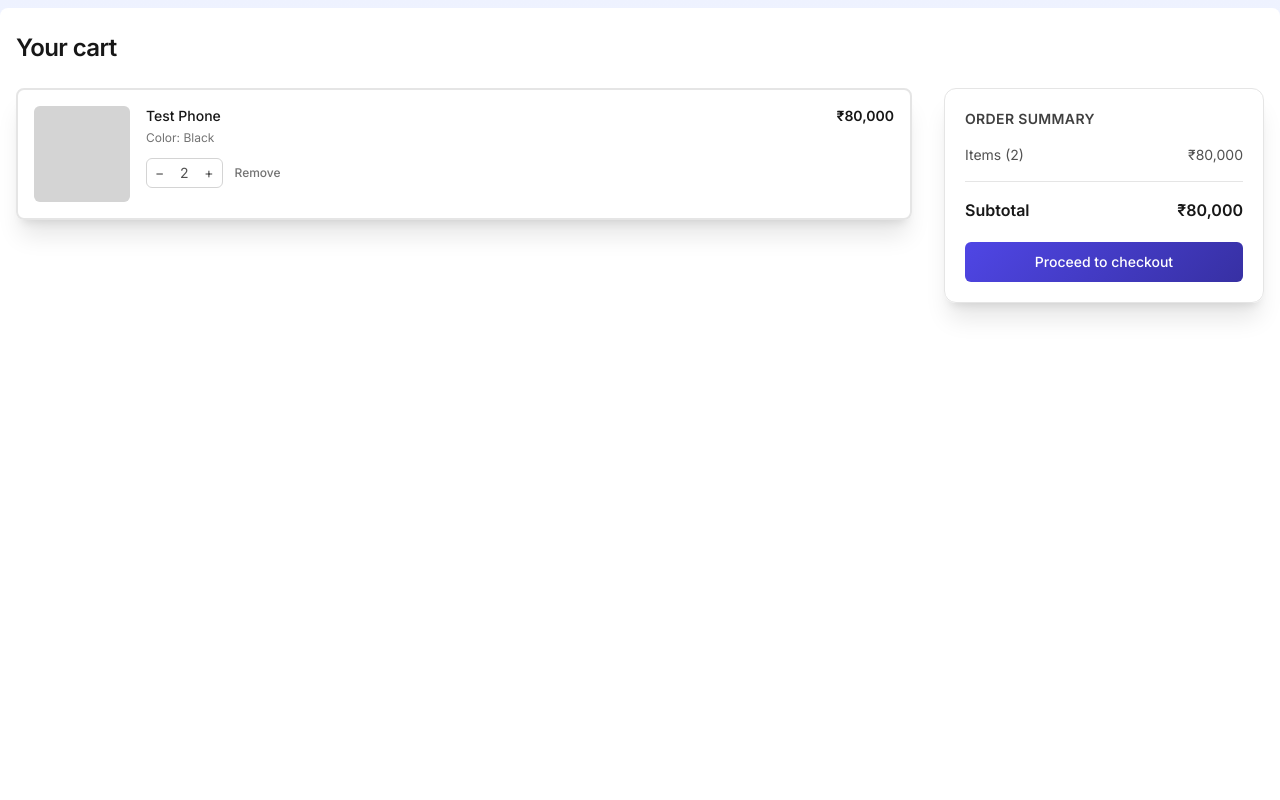
Test case: Cart page › removes a line
The width and height of the screenshot is (1280, 800).
Expected: the link "Test Phone" is shown, [146,107,221,124]
Click the button "Remove". click: (258, 173)
box: [234,165,281,181]
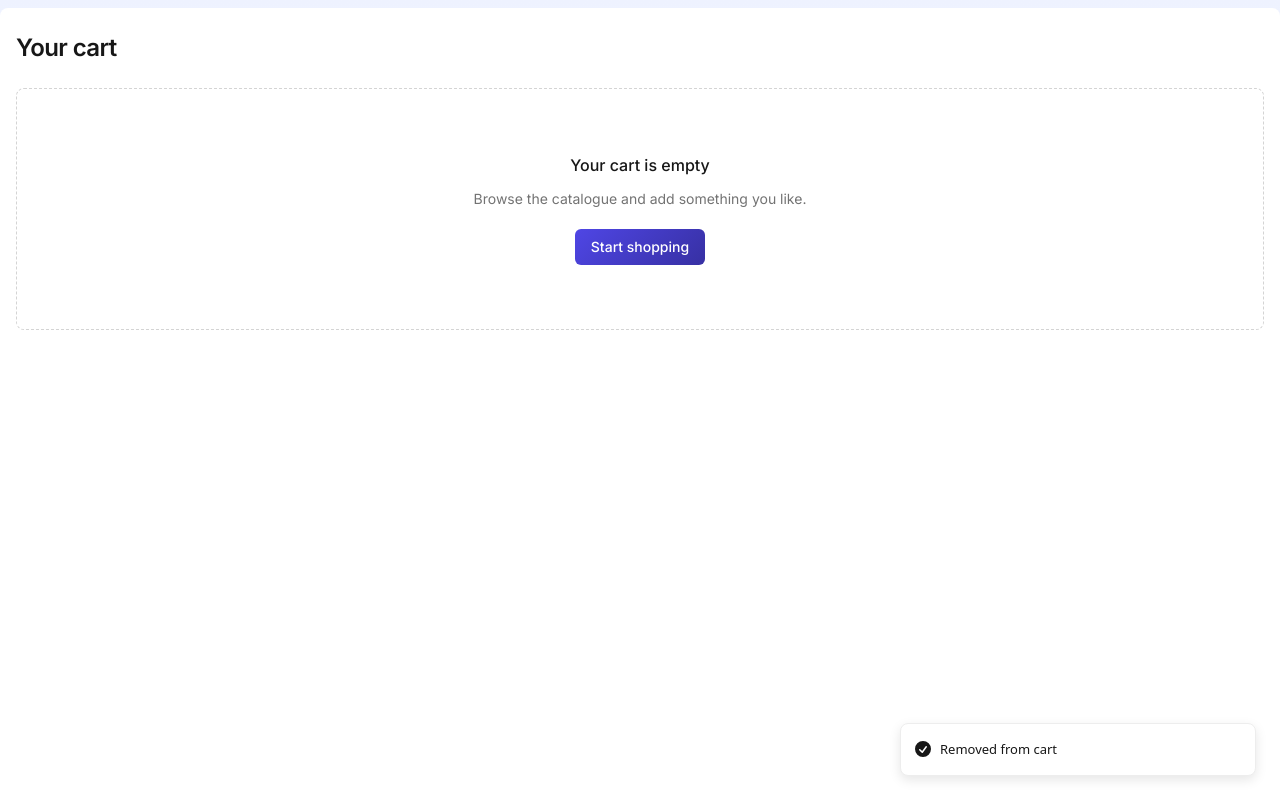
Result: the text "Your cart is empty" is shown at [570,153,710,177]
